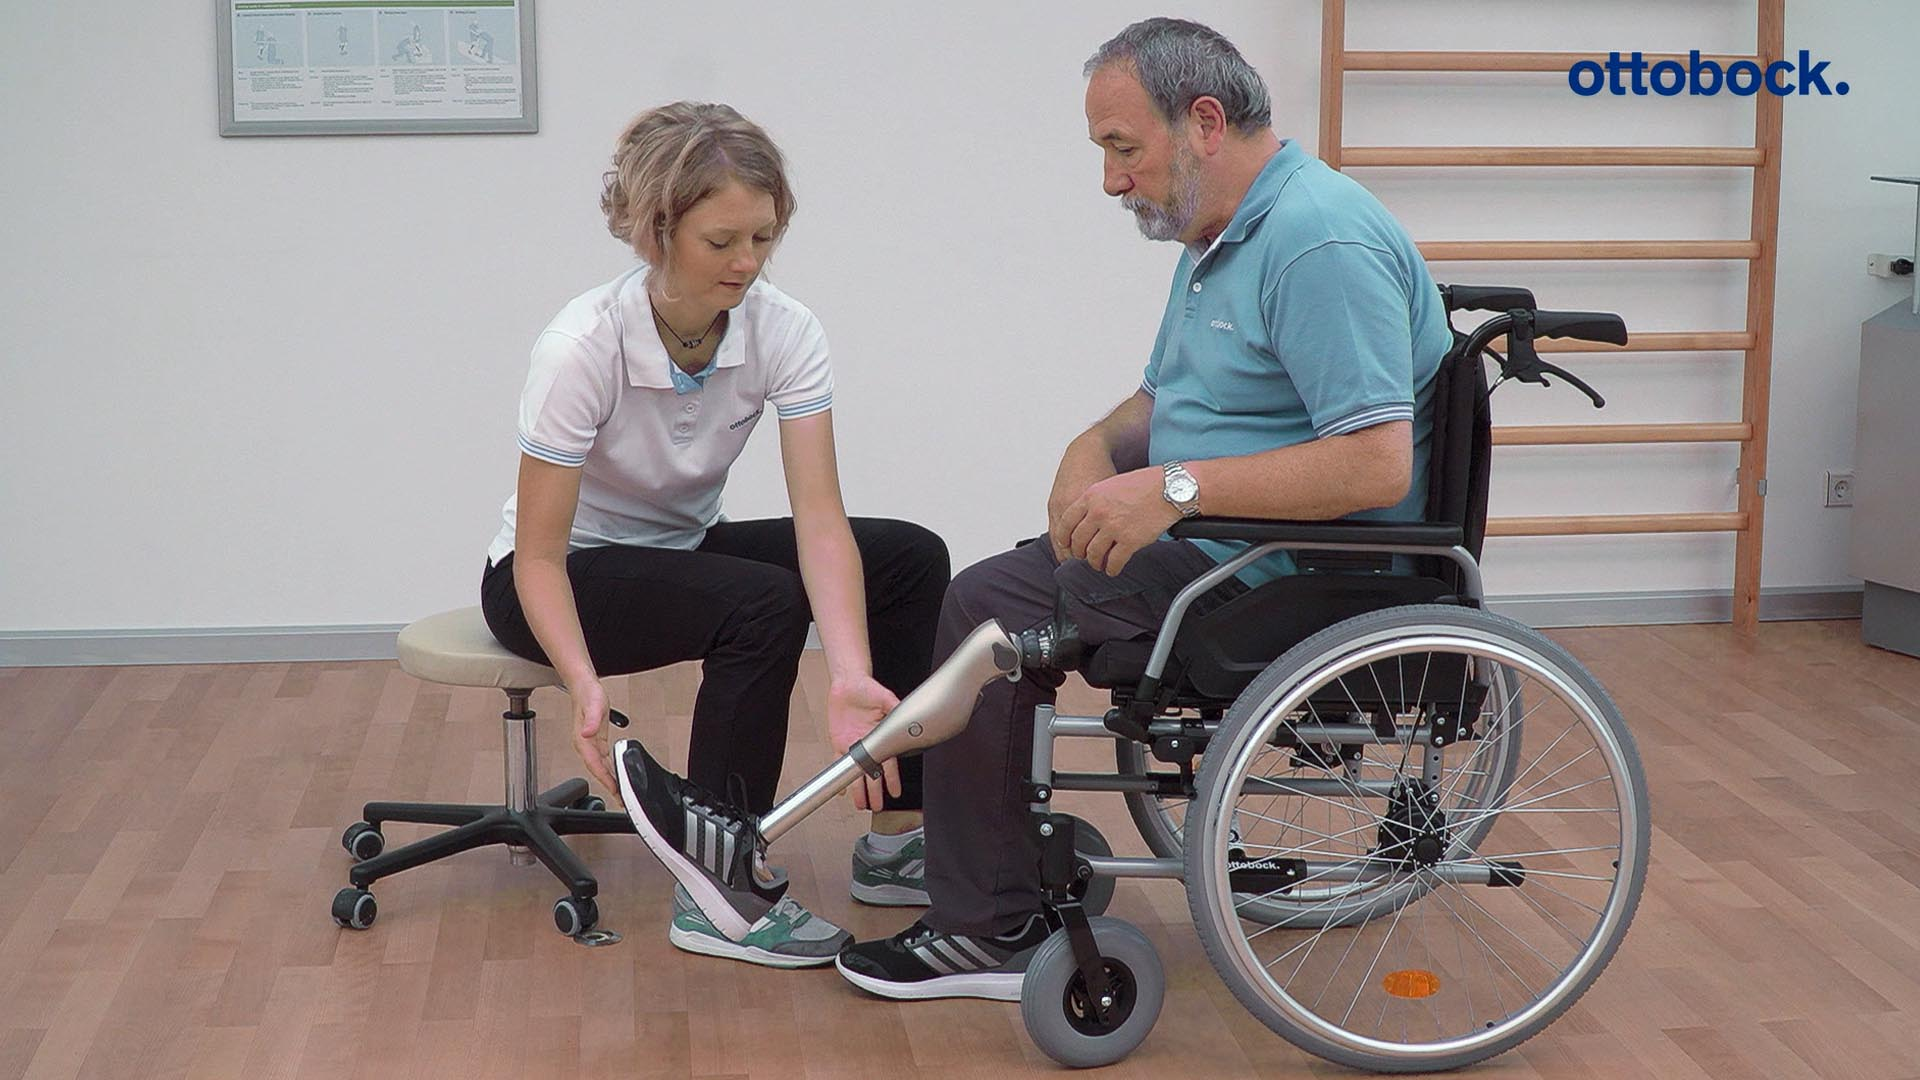wheelchair: (622, 17, 1655, 1065)
